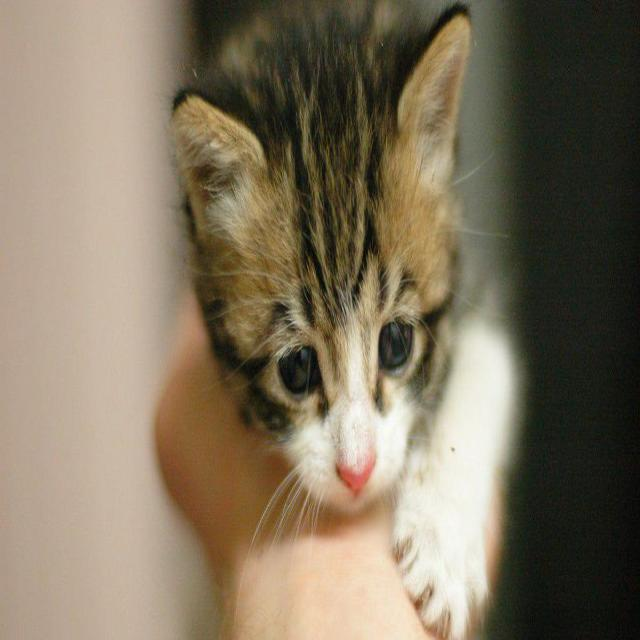Cat: (167, 2, 480, 527)
